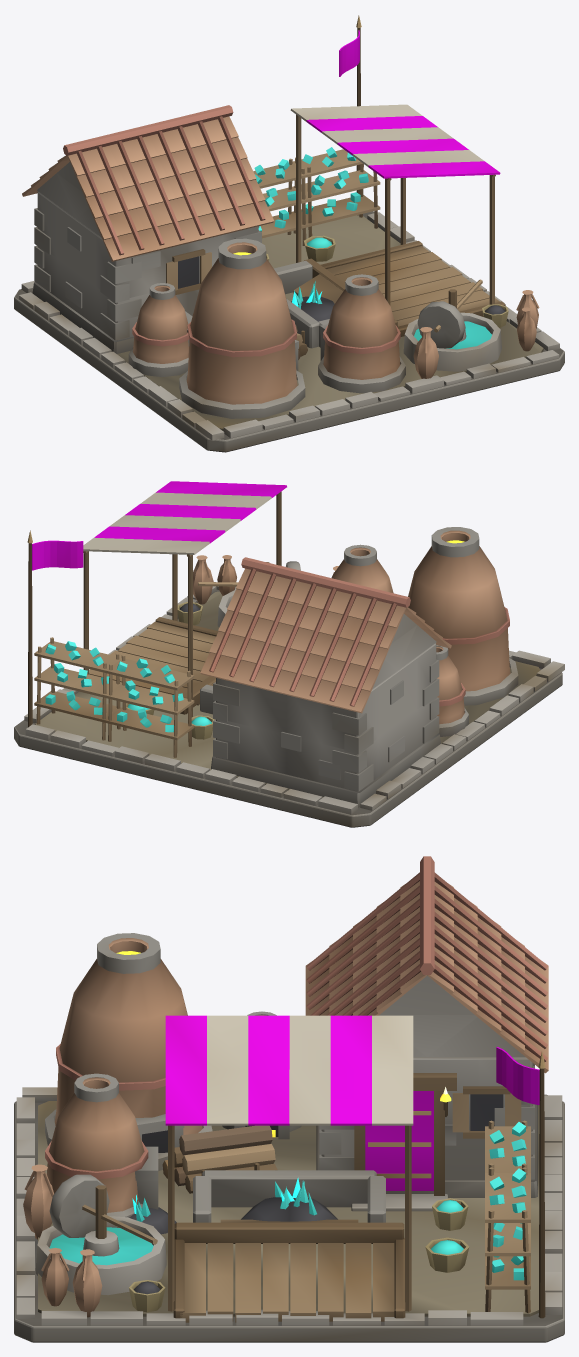
File: refinery_antiquity.glb
3 views of the same model, one above another, from view 1: azimuth 30°, elevation 25°; view 2: azimuth 150°, elevation 25°; view 3: azimuth 270°, elevation 25° (orthographic). The views are drawn at different scales.
Visible parts, largest first — view 1: Body; view 2: Body; view 3: Body.
Boxes of the visible parts, x1=… form: Body: x1=14, y1=15, x2=564, y2=452; Body: x1=14, y1=481, x2=564, y2=827; Body: x1=14, y1=856, x2=564, y2=1342.
Bounding box in the file's own units: 6 × 3.4 × 6.
Materials: 1 (1 with a texture image).
